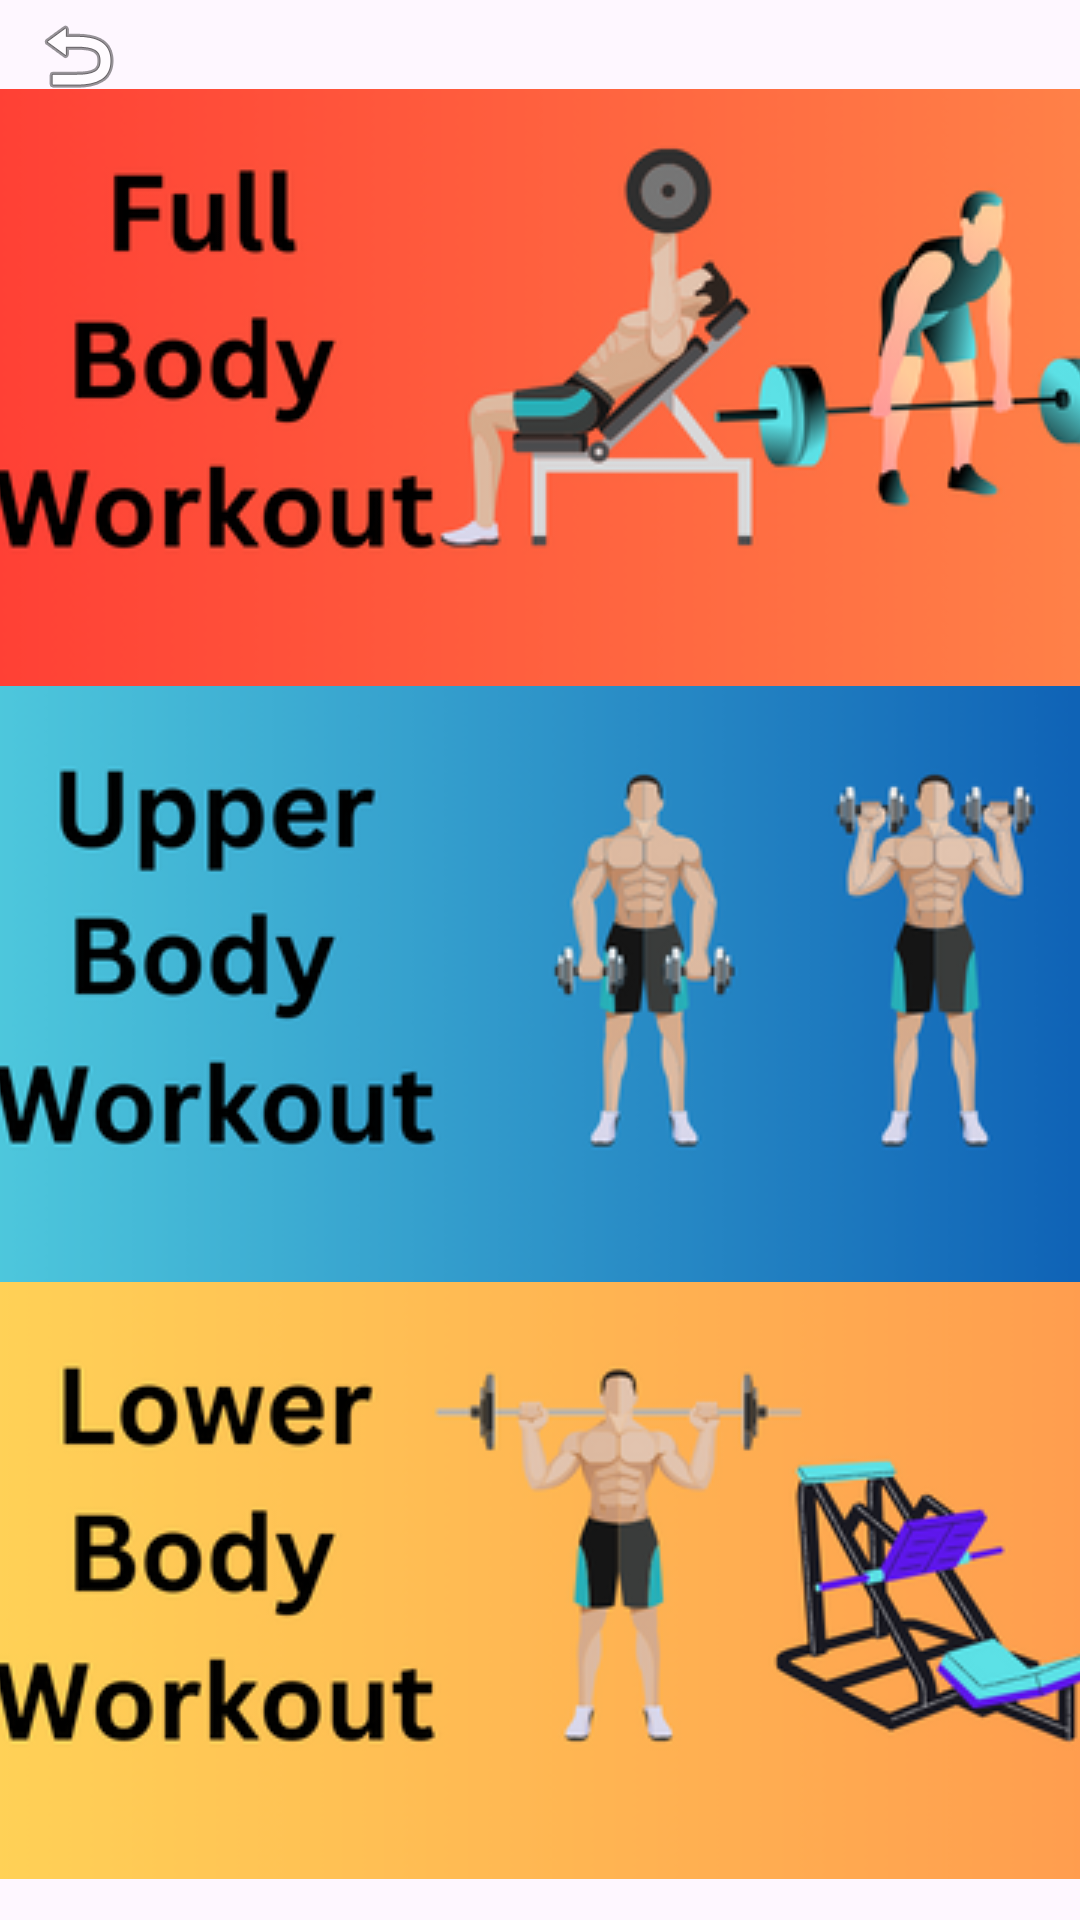

Named icons in this screenshot (1080w x 1920h) and their centers, (x,y):
revert: (77,55)
